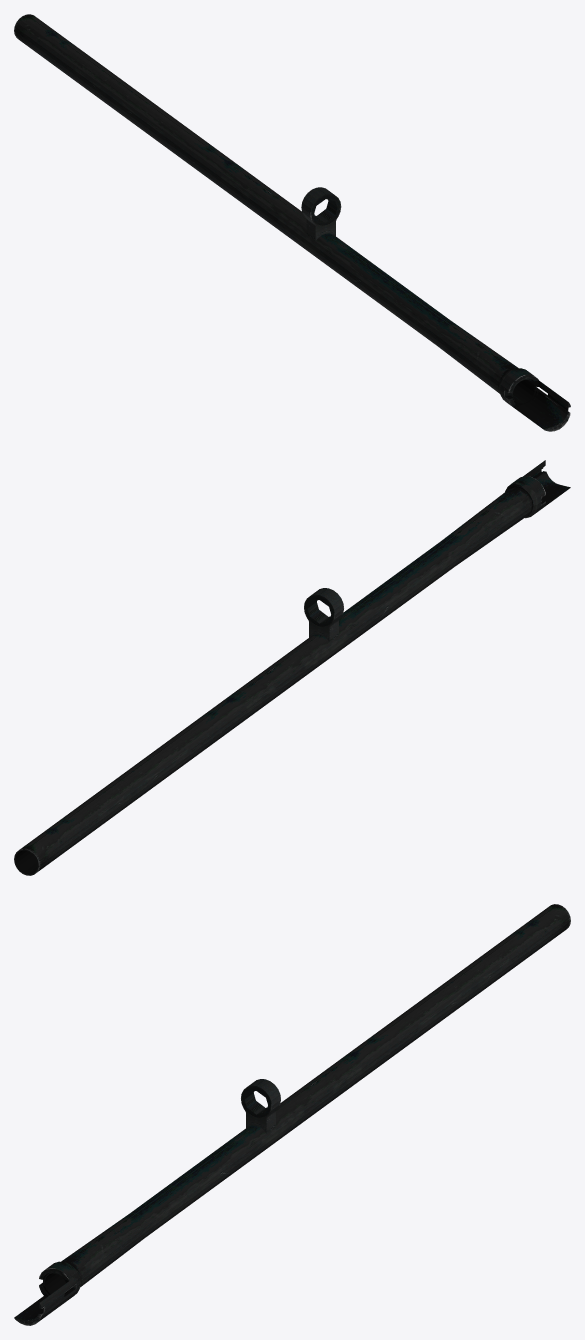
The picture shows the model from 3 angles, top to bottom: view 1: azimuth 30°, elevation 25°; view 2: azimuth 150°, elevation 25°; view 3: azimuth 330°, elevation 25°; orthographic projection.
Parts seen in each view (by area): view 1: TW_560837824bdc2d57468b4568_PZ_Import; view 2: TW_560837824bdc2d57468b4568_PZ_Import; view 3: TW_560837824bdc2d57468b4568_PZ_Import.
Part boxes in pixels (box(x1,y1,x2,y2)): TW_560837824bdc2d57468b4568_PZ_Import: box(14, 14, 570, 431); TW_560837824bdc2d57468b4568_PZ_Import: box(14, 460, 570, 875); TW_560837824bdc2d57468b4568_PZ_Import: box(14, 904, 570, 1325).
Size of the model in its own units: 0.0167 by 0.4598 by 0.0334.
Materials: 1 (1 with a texture image).
